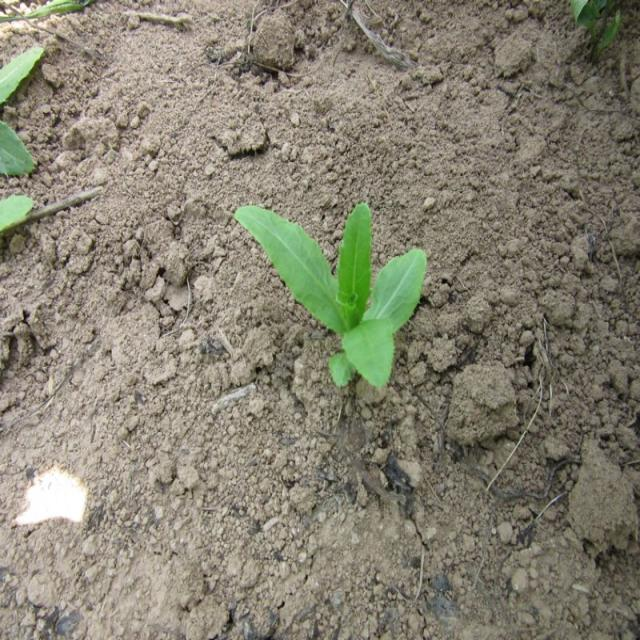field_thistle: (221, 185, 438, 392)
